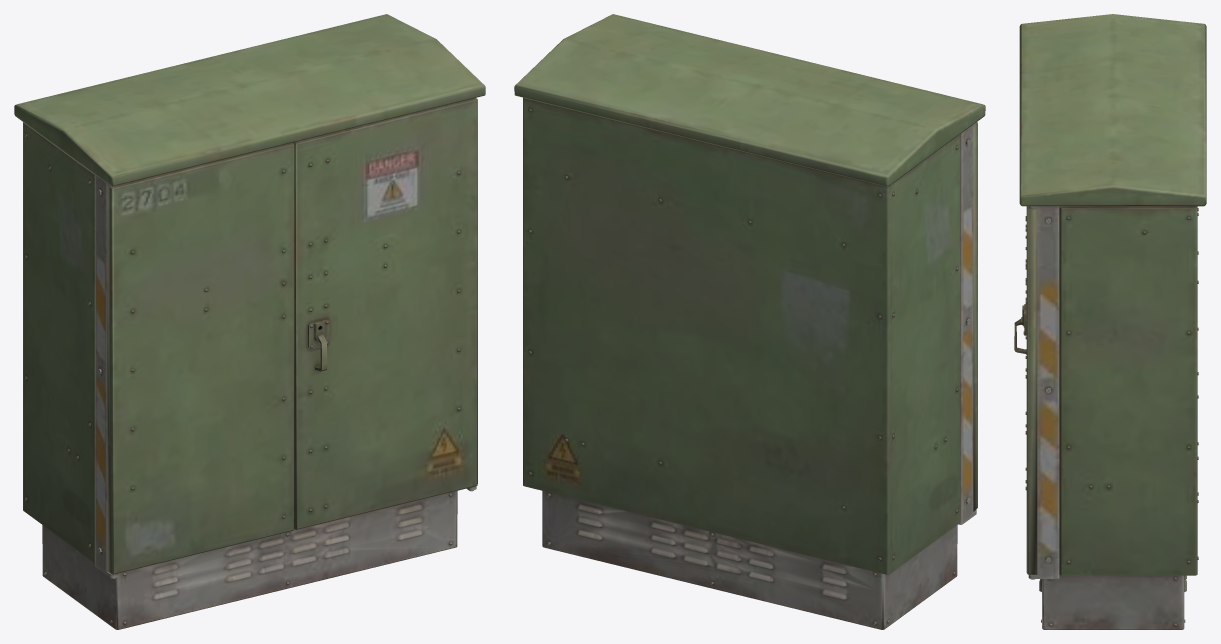
Rendered from utility_box_02.glb.
The picture shows the model from 3 angles, left to right: view 1: azimuth 30°, elevation 25°; view 2: azimuth 150°, elevation 25°; view 3: azimuth 270°, elevation 25°; orthographic projection. The views are drawn at different scales.
Parts seen in each view (by area): view 1: utility_box_02; view 2: utility_box_02; view 3: utility_box_02.
Boxes of the visible parts, box(x1,y1,x2,y2) form: utility_box_02: box(14, 14, 485, 629); utility_box_02: box(514, 14, 985, 629); utility_box_02: box(1014, 14, 1206, 629).
Size of the model in its own units: 0.92 by 1.12 by 0.432.
1 material, 1 textured.
